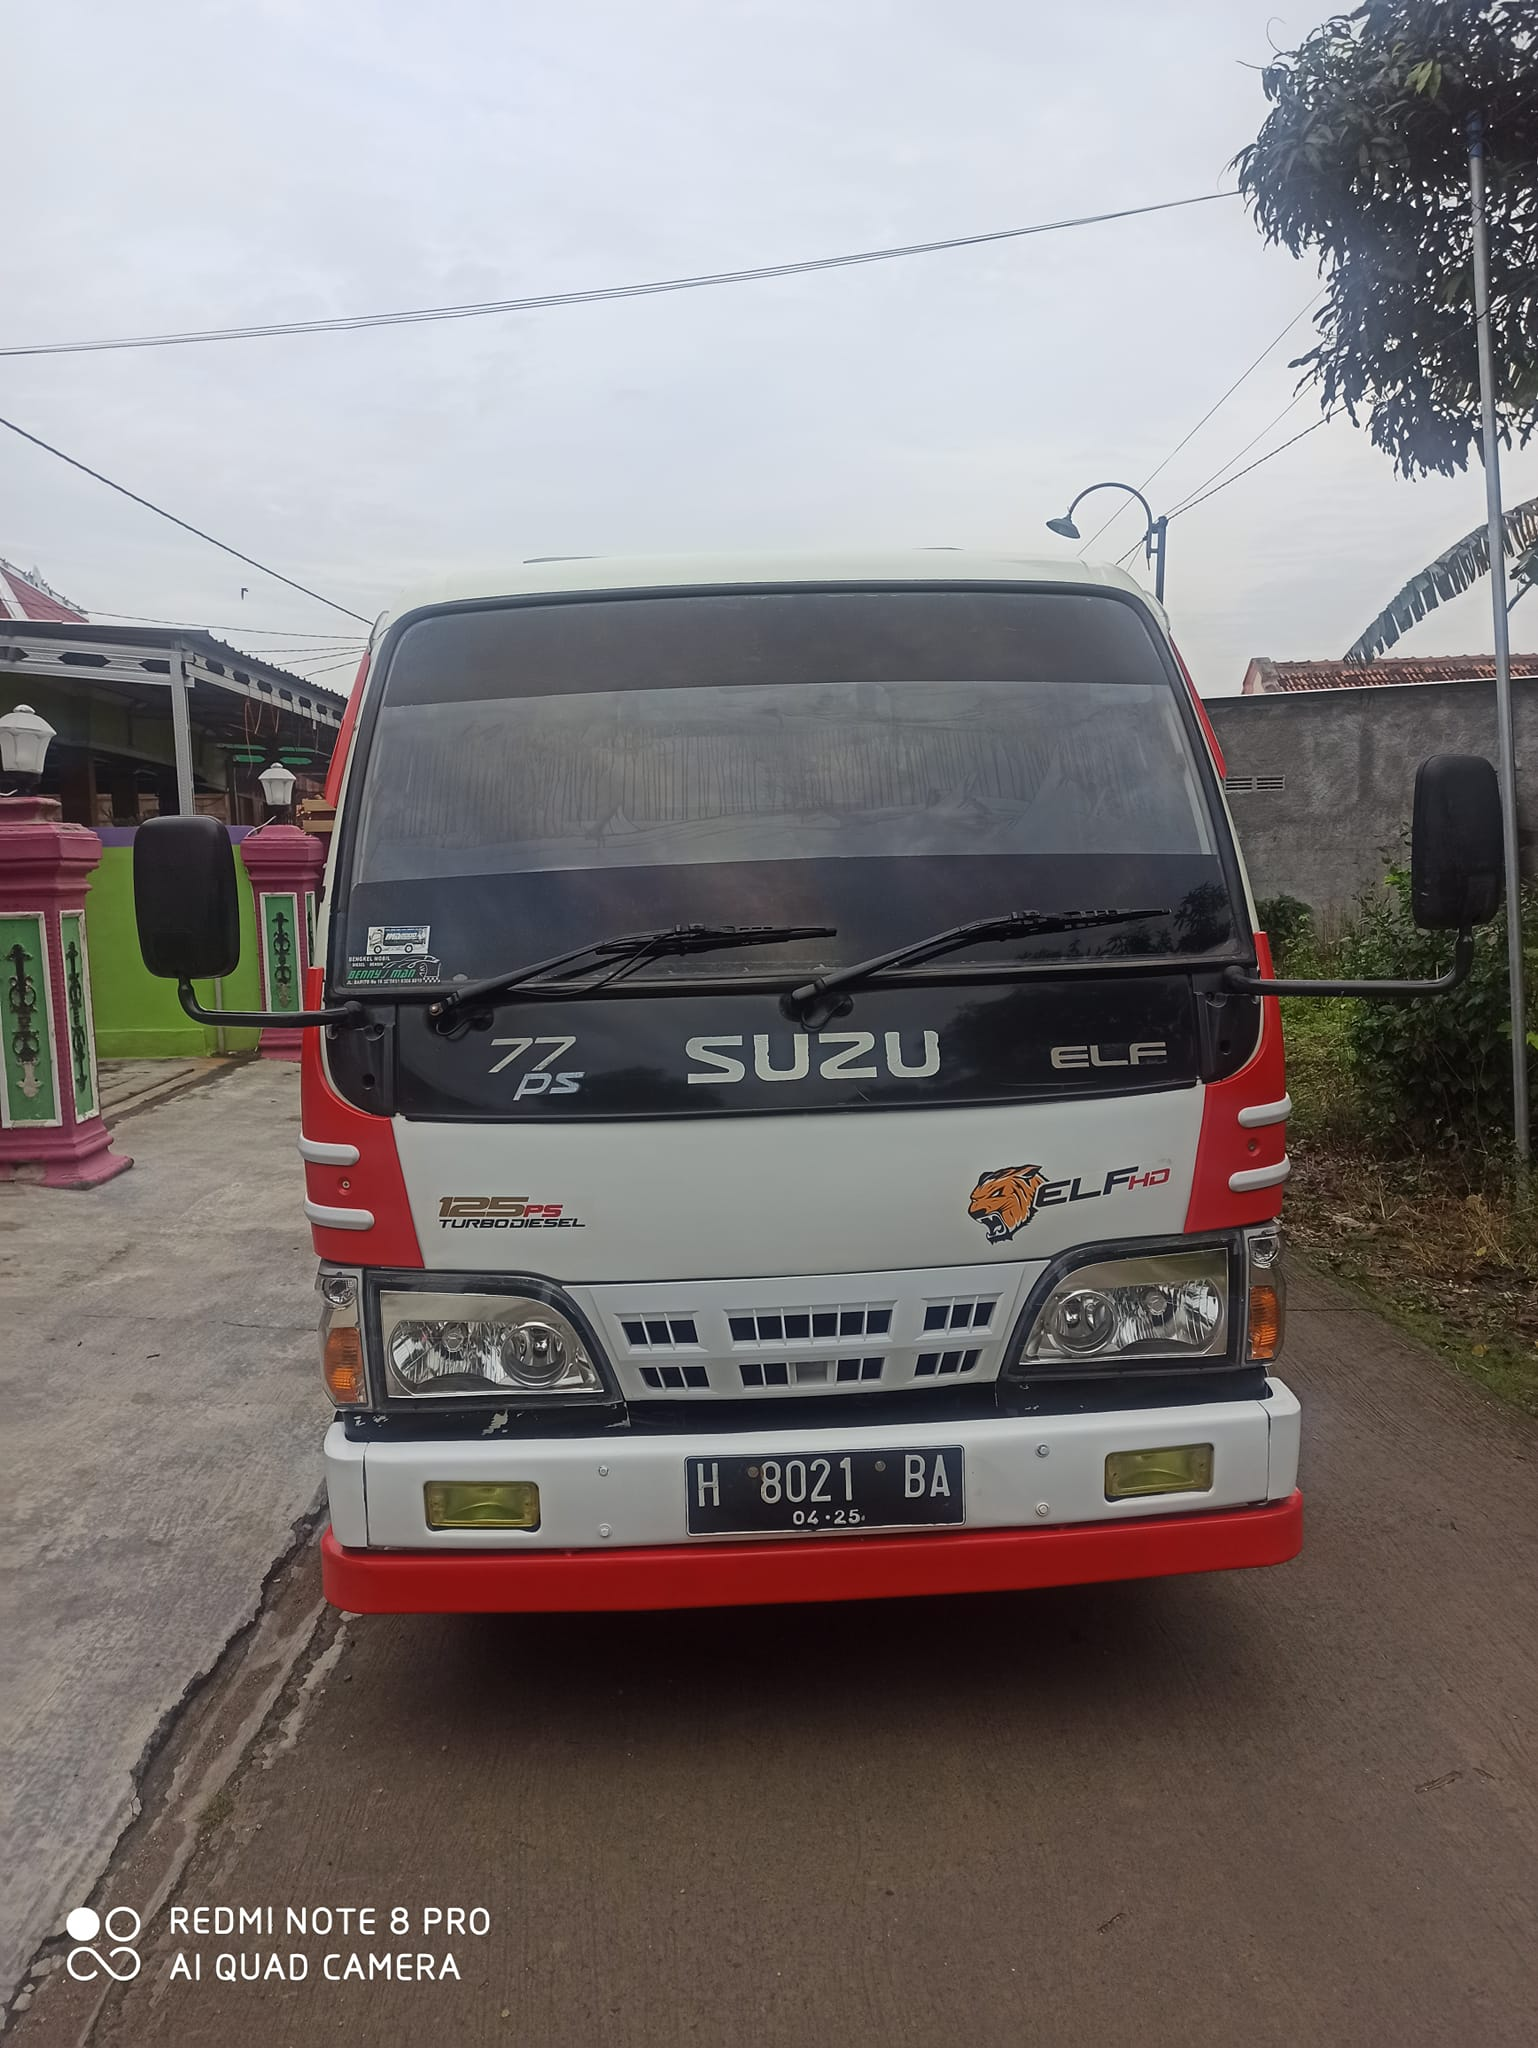plate: (679, 1445, 979, 1533)
